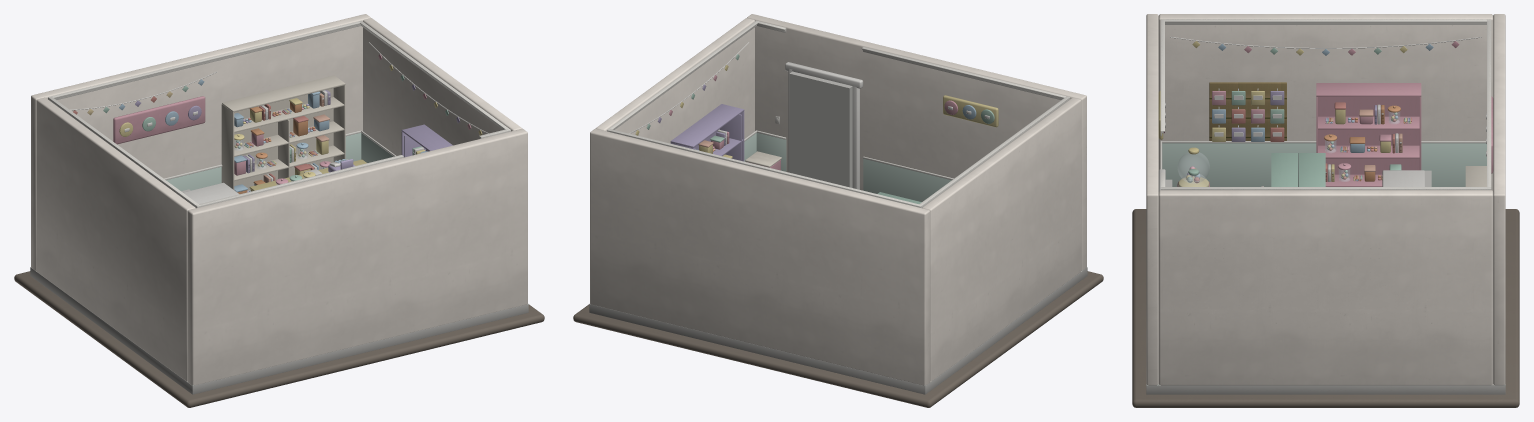
The picture shows the model from 3 angles, left to right: view 1: azimuth 30°, elevation 25°; view 2: azimuth 150°, elevation 25°; view 3: azimuth 270°, elevation 25°; orthographic projection. The views are drawn at different scales.
Visible parts, largest first — view 1: S04_ENV_Wall_S, S04_ENV_Wall_W, S04_ENV_Wall_N, S04_ENV_Wall_E, S04_FUR_ProductWall, S04_ENV_Plinth, S04_ENV_Floor, S04_ENV_Trim_N, S04_WALLDECO_ShopSign, S04_ENV_Trim_E, S04_FUR_EastShelf, S04_ENV_Trim_S (+2 smaller); view 2: S04_ENV_Wall_N, S04_ENV_Wall_W, S04_ENV_Wall_S, S04_ENV_Wall_E, S04_ENV_Plinth, S04_COL_INT_ExitDoor, S04_ENV_Floor, S04_ENV_Trim_S, S04_FUR_EastShelf, S04_WALLDECO_ExitDoorFrame, S04_ENV_Trim_N, S04_ENV_Trim_E (+2 smaller); view 3: S04_ENV_Wall_E, S04_ENV_Wall_W, S04_ENV_Plinth, S04_ENV_Trim_W, S04_FUR_WestShelf, S04_ENV_Wall_N, S04_ENV_Wall_S, S04_WALLDECO_Pegboard, S04_ENV_Floor, S04_ENV_Trim_E, S04_FUR_GondolaBack, S04_FUR_GondolaFront (+6 smaller).
Boxes of the visible parts, x1=… form: S04_ENV_Wall_S: x1=187, y1=128, x2=527, y2=385; S04_ENV_Wall_W: x1=36, y1=97, x2=195, y2=381; S04_ENV_Wall_N: x1=31, y1=14, x2=370, y2=270; S04_ENV_Wall_E: x1=363, y1=18, x2=521, y2=155; S04_FUR_ProductWall: x1=221, y1=75, x2=345, y2=191; S04_ENV_Plinth: x1=14, y1=271, x2=544, y2=407; S04_ENV_Floor: x1=30, y1=267, x2=528, y2=394; S04_ENV_Trim_N: x1=48, y1=21, x2=361, y2=191; S04_WALLDECO_ShopSign: x1=113, y1=96, x2=205, y2=144; S04_ENV_Trim_E: x1=359, y1=20, x2=510, y2=162; S04_FUR_EastShelf: x1=401, y1=124, x2=452, y2=157; S04_ENV_Trim_S: x1=195, y1=129, x2=510, y2=207; S04_ENV_Wall_N: x1=590, y1=128, x2=930, y2=385; S04_ENV_Wall_W: x1=922, y1=97, x2=1081, y2=381; S04_ENV_Wall_S: x1=747, y1=14, x2=1086, y2=270; S04_ENV_Wall_E: x1=596, y1=18, x2=754, y2=143; S04_ENV_Plinth: x1=573, y1=271, x2=1103, y2=407; S04_COL_INT_ExitDoor: x1=789, y1=71, x2=852, y2=187; S04_ENV_Floor: x1=589, y1=267, x2=1087, y2=394; S04_ENV_Trim_S: x1=756, y1=20, x2=1066, y2=201; S04_FUR_EastShelf: x1=670, y1=104, x2=744, y2=161; S04_WALLDECO_ExitDoorFrame: x1=785, y1=62, x2=863, y2=189; S04_ENV_Trim_N: x1=607, y1=129, x2=921, y2=207; S04_ENV_Trim_E: x1=607, y1=21, x2=758, y2=161; S04_ENV_Wall_E: x1=1158, y1=190, x2=1493, y2=385; S04_ENV_Wall_W: x1=1158, y1=14, x2=1493, y2=191; S04_ENV_Plinth: x1=1132, y1=209, x2=1519, y2=407; S04_ENV_Trim_W: x1=1162, y1=19, x2=1490, y2=186; S04_FUR_WestShelf: x1=1316, y1=83, x2=1421, y2=186; S04_ENV_Wall_N: x1=1493, y1=14, x2=1505, y2=385; S04_ENV_Wall_S: x1=1146, y1=14, x2=1158, y2=385; S04_WALLDECO_Pegboard: x1=1209, y1=82, x2=1286, y2=141; S04_ENV_Floor: x1=1146, y1=384, x2=1505, y2=394; S04_ENV_Trim_E: x1=1160, y1=187, x2=1491, y2=189; S04_FUR_GondolaBack: x1=1298, y1=153, x2=1325, y2=186; S04_FUR_GondolaFront: x1=1271, y1=153, x2=1297, y2=186.
Size of the model in its own units: 5.88 by 2.96 by 4.98.
Materials: 61 (38 with a texture image).
